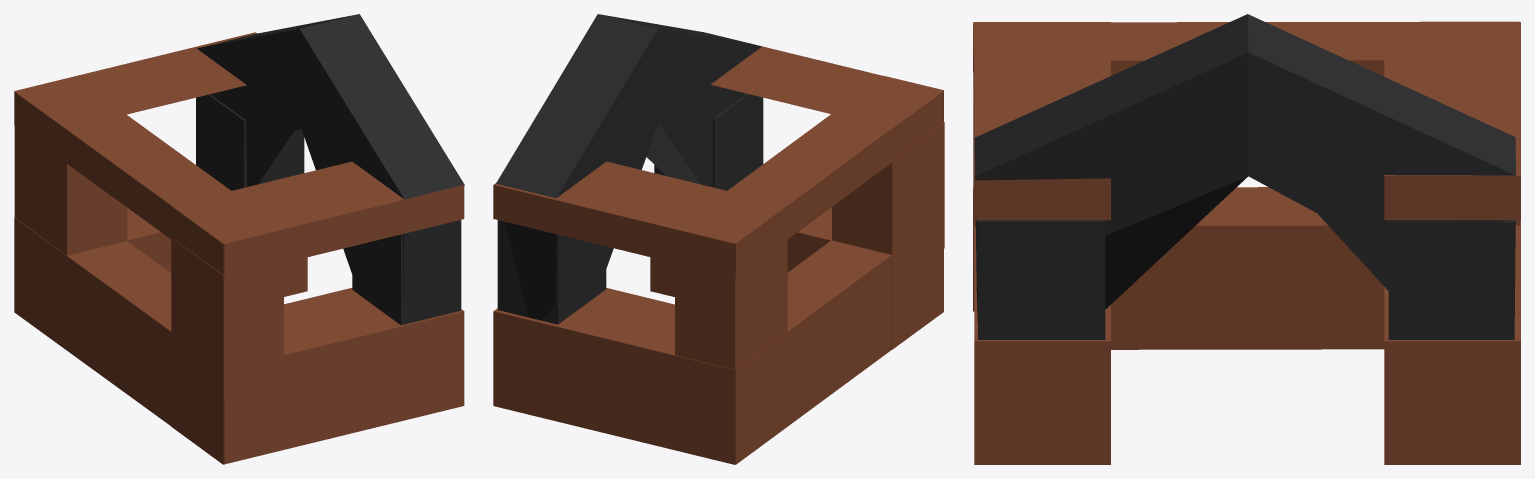
Rendered from kiosk.fbx.
3 renders of one model, left to right at view 1: azimuth 30°, elevation 25°; view 2: azimuth 150°, elevation 25°; view 3: azimuth 270°, elevation 25°, orthographic. The views are drawn at different scales.
Parts seen in each view (by area): view 1: Cube.003; view 2: Cube.003; view 3: Cube.003.
Boxes of the visible parts, x1,y1,x2,y2 form: Cube.003: (14,14,464,464); Cube.003: (493,14,944,464); Cube.003: (973,14,1520,464).
Size of the model in its own units: 402 by 500 by 601.
